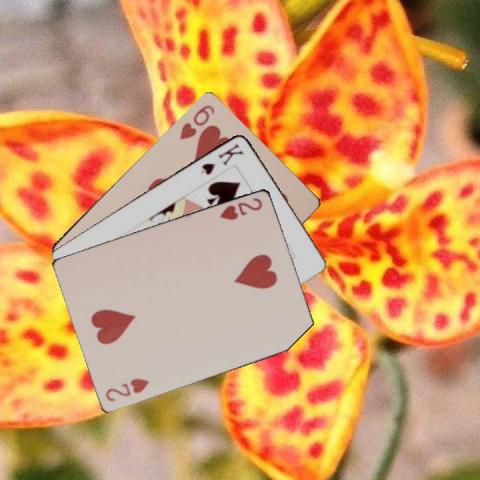2h: (103, 374, 151, 402), (217, 194, 264, 221)
6h: (176, 101, 217, 141)
Ks: (198, 139, 245, 176)
